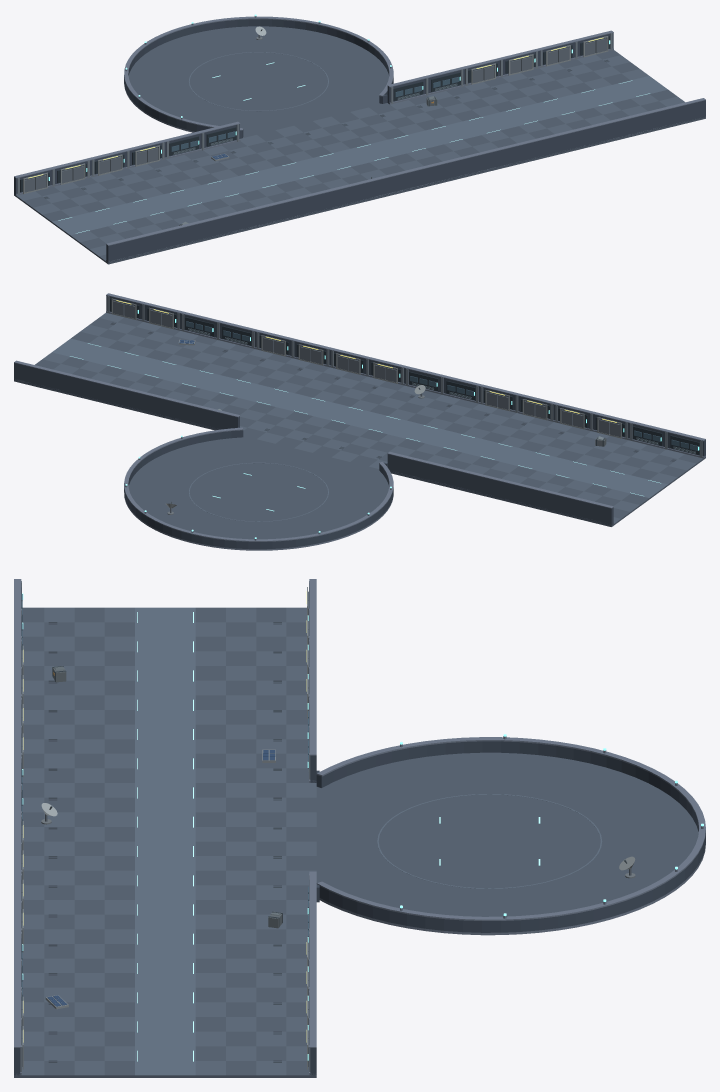
Rendered from space.glb.
3 renders of one model, top to bottom at view 1: azimuth 30°, elevation 25°; view 2: azimuth 150°, elevation 25°; view 3: azimuth 270°, elevation 25°, orthographic. The views are drawn at different scales.
Parts seen in each view (by area): view 1: DS_Floor64 (×8), DS_Arena, DS_WallA (×9), DS_WallB (×5); view 2: DS_Floor64 (×8), DS_Arena, DS_WallA (×9), DS_WallB (×5); view 3: DS_Floor64 (×8), DS_Arena, DS_WallA (×2), DS_WallB.
Part boxes in pixels (x1,y1,x2,y2): DS_Floor64 (×8): [14, 50, 705, 264]; DS_Arena: [124, 14, 393, 138]; DS_WallA (×9): [14, 30, 705, 244]; DS_WallB (×5): [106, 67, 631, 262]; DS_Floor64 (×8): [14, 313, 705, 526]; DS_Arena: [124, 427, 393, 550]; DS_WallA (×9): [14, 293, 630, 525]; DS_WallB (×5): [163, 311, 705, 489]; DS_Floor64 (×8): [14, 607, 316, 1077]; DS_Arena: [316, 734, 705, 935]; DS_WallA (×2): [14, 988, 316, 1075]; DS_WallB: [307, 696, 316, 782].
Bounding box in the file's own units: 512 × 15.7 × 320.
Materials: 4 (4 with a texture image).
